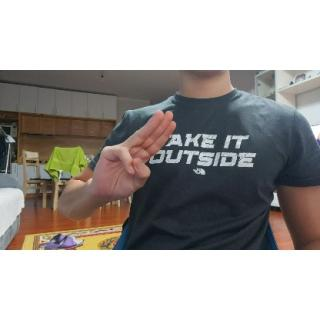THA: (89, 107, 182, 202)
